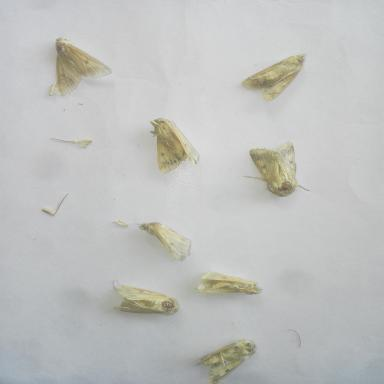abw: (240, 139, 313, 199), (238, 47, 314, 104), (49, 34, 115, 98), (146, 114, 202, 176), (192, 334, 262, 383), (108, 277, 182, 319), (132, 218, 198, 264), (190, 266, 266, 298)
